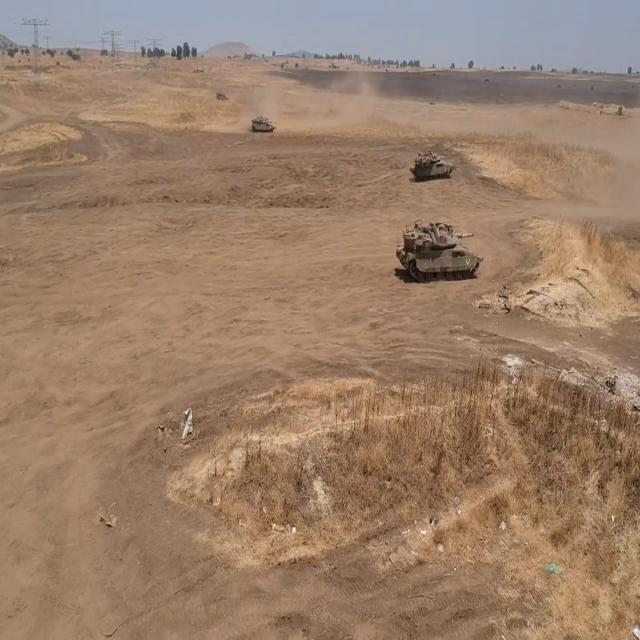tank: (394, 214, 484, 282), (404, 138, 457, 189), (250, 113, 280, 137), (218, 83, 232, 106)
